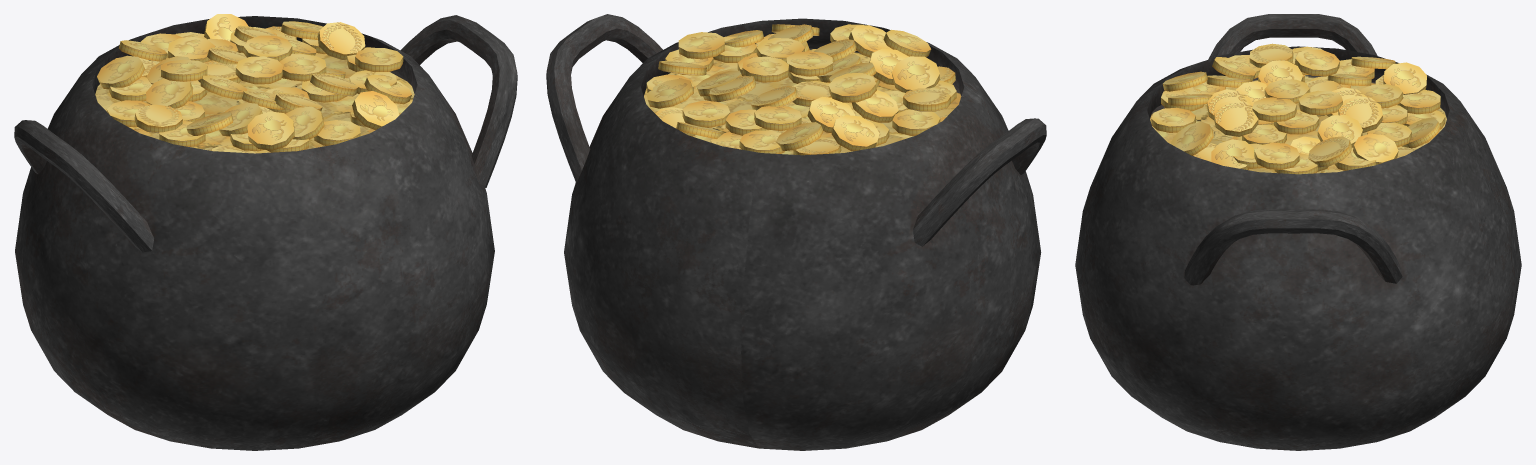
Rendered from pot.FBX.
3 views of the same model, side by side, from view 1: azimuth 30°, elevation 25°; view 2: azimuth 150°, elevation 25°; view 3: azimuth 270°, elevation 25° (orthographic). The views are drawn at different scales.
Parts seen in each view (by area): view 1: pot; view 2: pot; view 3: pot.
Boxes of the visible parts, x1=… form: pot: x1=14, y1=14, x2=517, y2=450; pot: x1=546, y1=14, x2=1046, y2=450; pot: x1=1075, y1=14, x2=1521, y2=450.
Size of the model in its own units: 48.21 by 35.85 by 44.18.
1 material, 1 textured.
